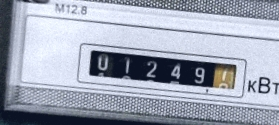0: (94, 51, 110, 73)
1: (119, 54, 132, 75)
2: (143, 58, 159, 80)
4: (168, 61, 182, 81)
7: (216, 62, 231, 83)
9: (190, 64, 206, 86)
screen: (67, 34, 247, 104)
